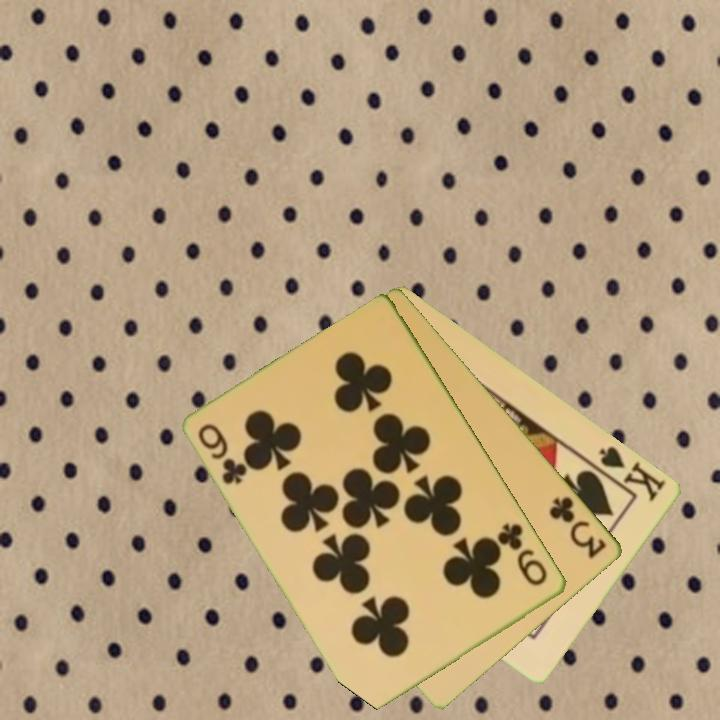3c: (546, 492, 610, 562)
9c: (494, 519, 551, 589), (195, 420, 251, 488)
Ks: (596, 442, 670, 504)
